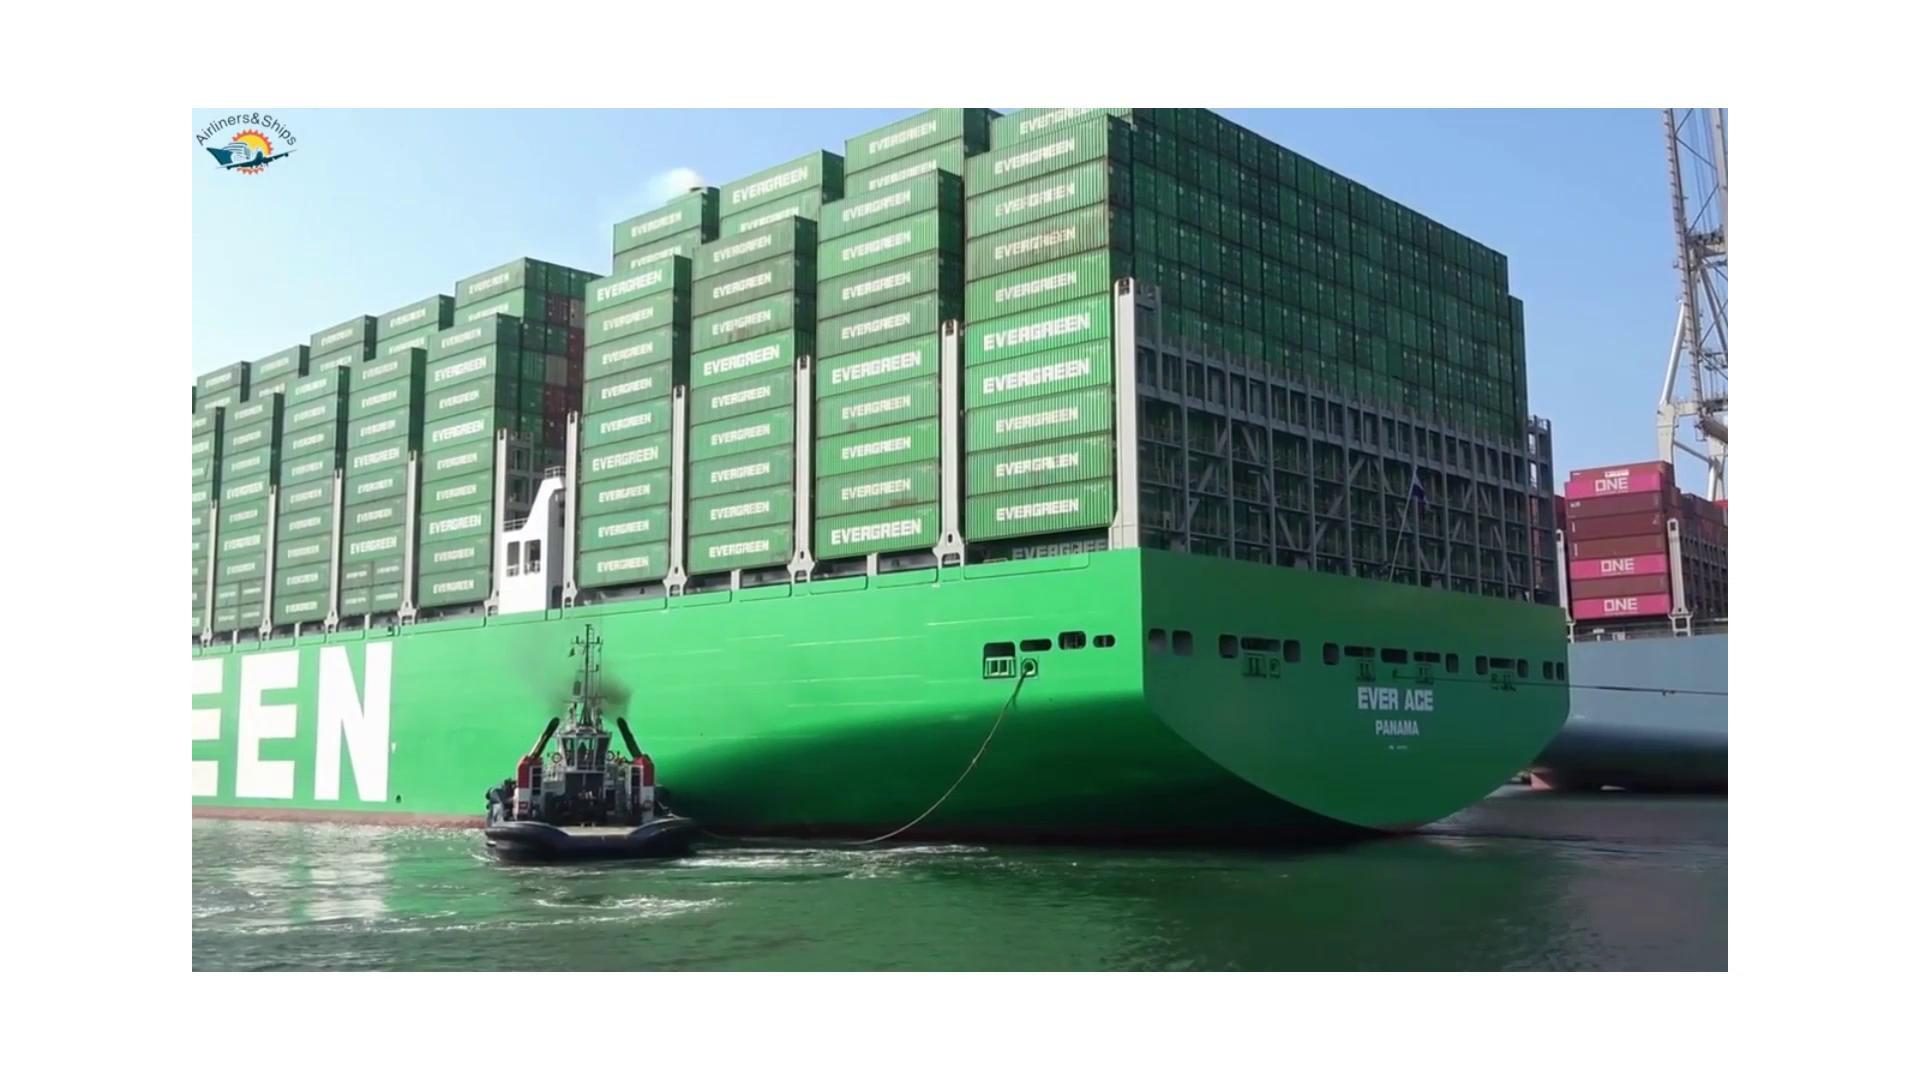OCR: (185, 641, 433, 827), (1324, 650, 1456, 766)
